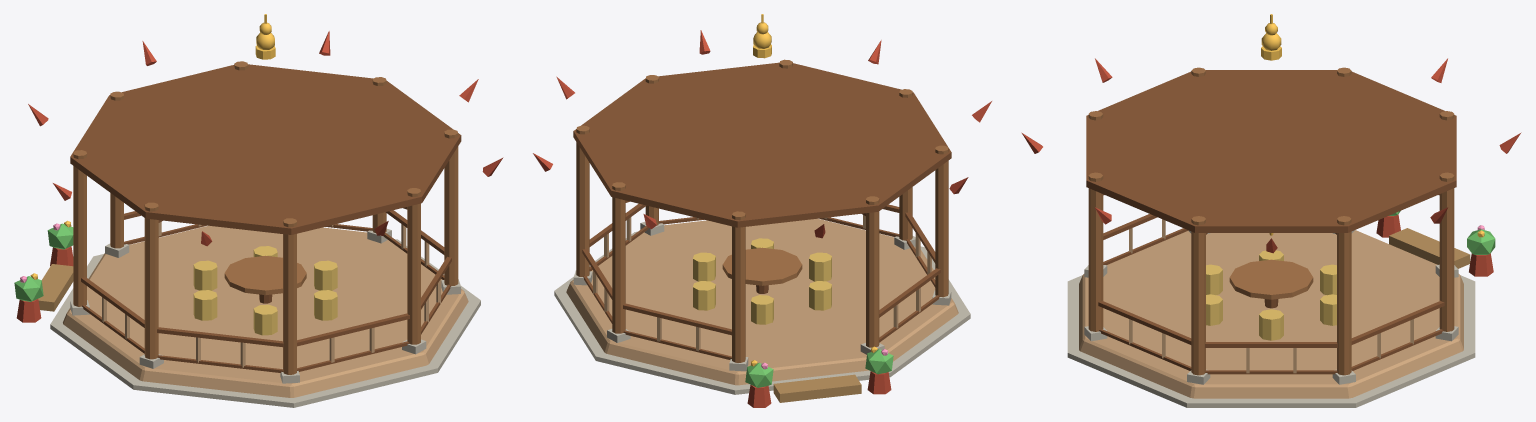
Rendered from choi-bat-giac.glb.
The picture shows the model from 3 angles, left to right: view 1: azimuth 30°, elevation 25°; view 2: azimuth 150°, elevation 25°; view 3: azimuth 270°, elevation 25°; orthographic projection. The views are drawn at different scales.
Parts seen in each view (by area): view 1: choi-bat-giac-4, choi-bat-giac-0, choi-bat-giac-3, choi-bat-giac-1, choi-bat-giac-9, choi-bat-giac-5, choi-bat-giac-2, choi-bat-giac-10, choi-bat-giac-6; view 2: choi-bat-giac-4, choi-bat-giac-0, choi-bat-giac-3, choi-bat-giac-1, choi-bat-giac-9, choi-bat-giac-5, choi-bat-giac-2, choi-bat-giac-10, choi-bat-giac-6; view 3: choi-bat-giac-4, choi-bat-giac-0, choi-bat-giac-3, choi-bat-giac-1, choi-bat-giac-9, choi-bat-giac-5, choi-bat-giac-2, choi-bat-giac-6, choi-bat-giac-10.
Part boxes in pixels (bbox=[...]): choi-bat-giac-4: bbox=[70, 64, 461, 372]; choi-bat-giac-0: bbox=[63, 222, 468, 397]; choi-bat-giac-3: bbox=[73, 61, 458, 374]; choi-bat-giac-1: bbox=[50, 229, 480, 407]; choi-bat-giac-9: bbox=[193, 246, 337, 335]; choi-bat-giac-5: bbox=[16, 31, 503, 322]; choi-bat-giac-2: bbox=[38, 264, 73, 311]; choi-bat-giac-10: bbox=[14, 223, 73, 301]; choi-bat-giac-6: bbox=[255, 14, 275, 59]; choi-bat-giac-4: bbox=[573, 62, 951, 359]; choi-bat-giac-0: bbox=[566, 215, 958, 385]; choi-bat-giac-3: bbox=[576, 59, 948, 362]; choi-bat-giac-1: bbox=[554, 221, 970, 394]; choi-bat-giac-9: bbox=[693, 238, 831, 324]; choi-bat-giac-5: bbox=[533, 30, 991, 407]; choi-bat-giac-2: bbox=[773, 374, 861, 402]; choi-bat-giac-10: bbox=[745, 349, 893, 387]; choi-bat-giac-6: bbox=[753, 14, 771, 58]; choi-bat-giac-4: bbox=[1086, 70, 1456, 374]; choi-bat-giac-0: bbox=[1079, 219, 1463, 398]; choi-bat-giac-3: bbox=[1088, 67, 1454, 375]; choi-bat-giac-1: bbox=[1067, 230, 1475, 407]; choi-bat-giac-9: bbox=[1206, 250, 1336, 340]; choi-bat-giac-5: bbox=[1021, 58, 1521, 276]; choi-bat-giac-2: bbox=[1389, 228, 1470, 268]; choi-bat-giac-6: bbox=[1261, 14, 1281, 235]; choi-bat-giac-10: bbox=[1389, 211, 1495, 254].
Size of the model in its own units: 9.58 by 6.49 by 9.58.
